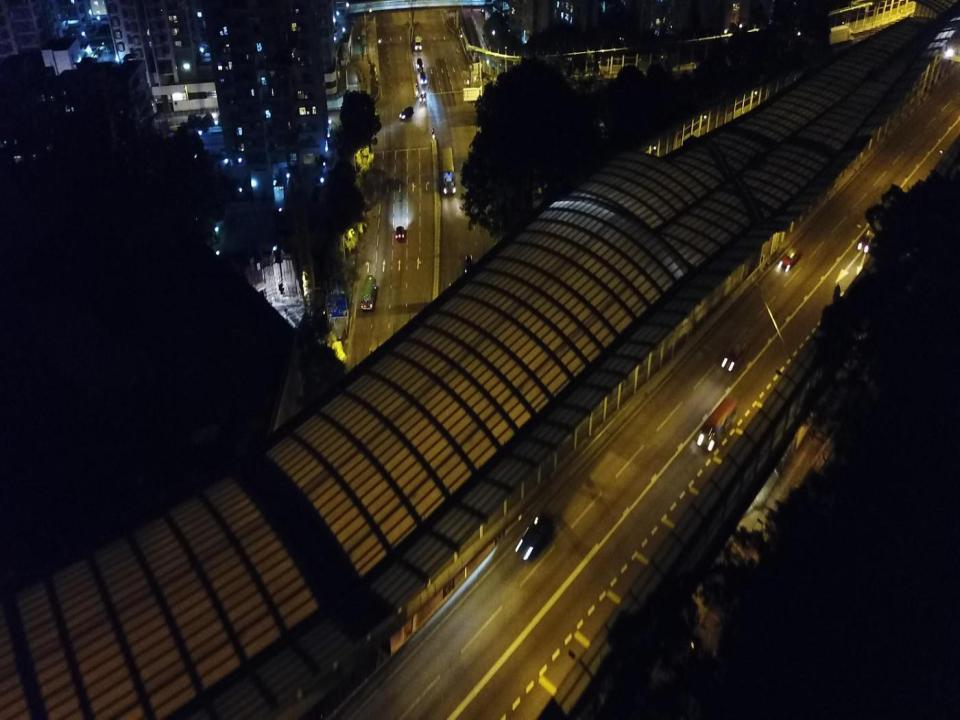bus: (697, 395, 738, 451), (442, 147, 456, 195), (360, 274, 376, 310)
car: (515, 508, 556, 561), (721, 339, 748, 372), (857, 221, 882, 254), (779, 245, 803, 269), (398, 106, 415, 122), (463, 254, 472, 277), (395, 226, 405, 239), (414, 35, 422, 51), (416, 58, 424, 72), (420, 71, 427, 85), (419, 90, 426, 103)
